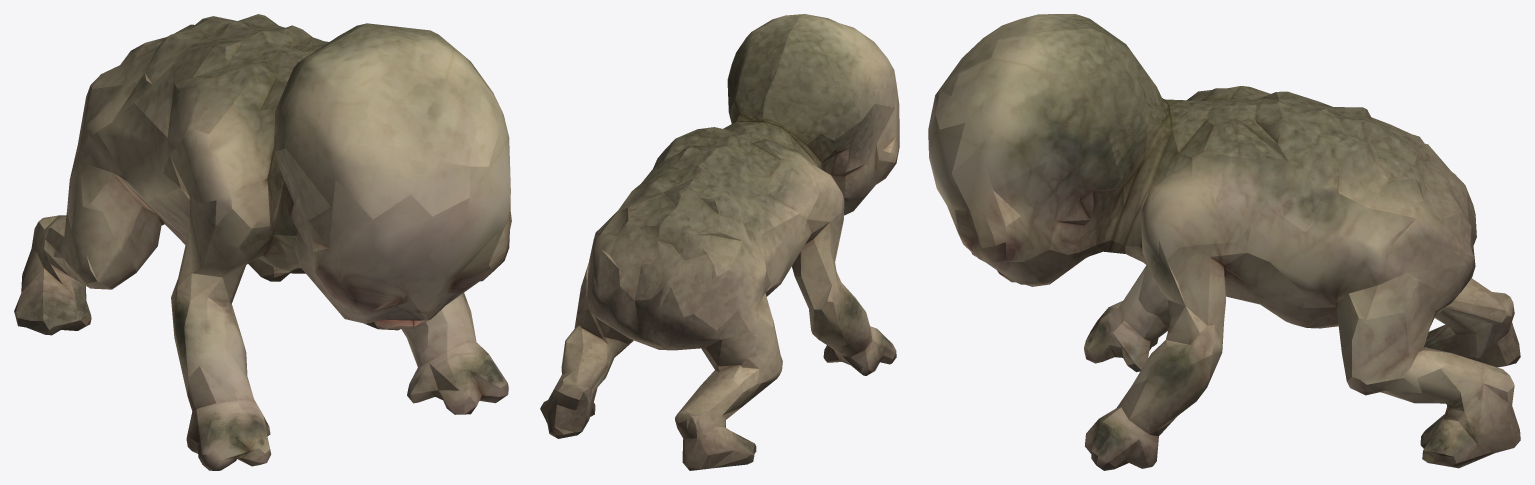
The model's file is rotspawn.glb.
3 views of the same model, side by side, from view 1: azimuth 30°, elevation 25°; view 2: azimuth 150°, elevation 25°; view 3: azimuth 270°, elevation 25° (orthographic). The views are drawn at different scales.
Size of the model in its own units: 1.03 by 1.36 by 1.9.
1 material, 1 textured.
